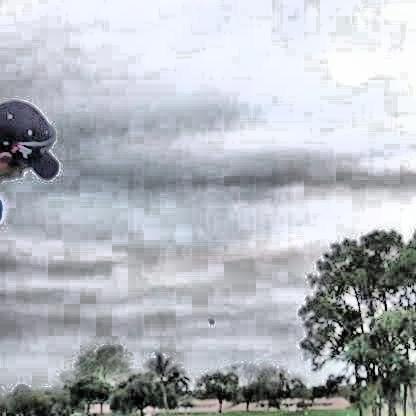golfball: (206, 317, 214, 323)
